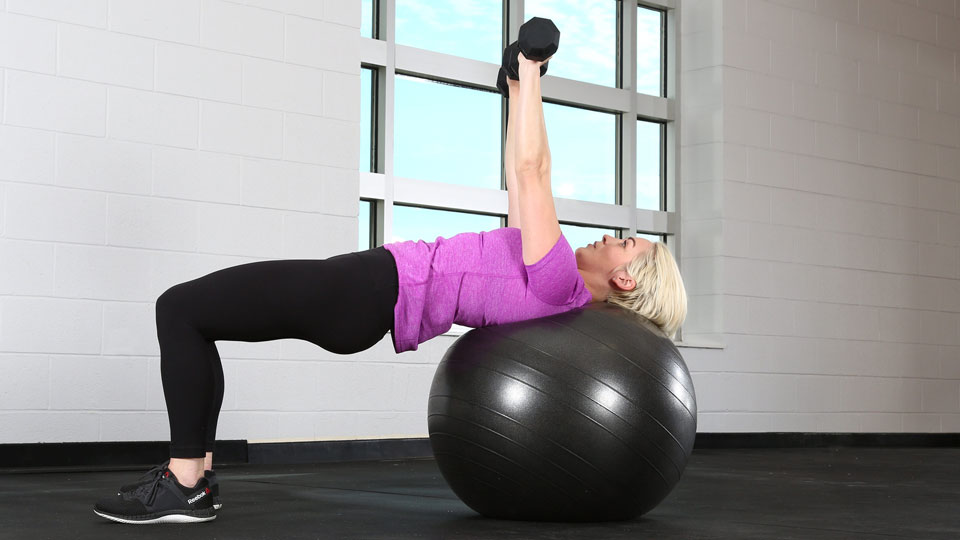yogaball: (423, 303, 703, 530)
